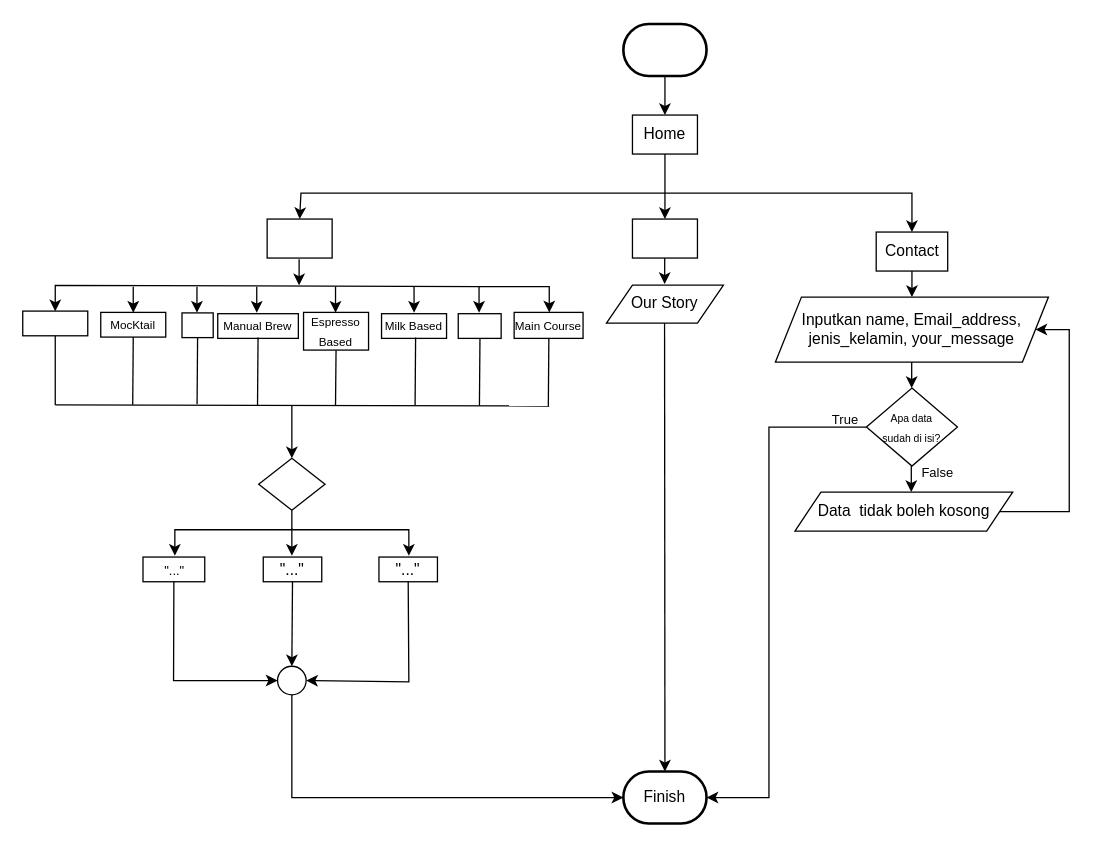
Some shapes in this 1102 by 846 pixel diagram are drawn without their labels. Here are the shapes that lost their labels. From the top down, the centre of each, then its label:
At point 664,49: "Start".
At point 299,238: "Menu".
At point 664,238: "About".
At point 54,323: "Signature".
At point 197,325: "Tea".
At point 479,325: "Snack".
At point 291,483: "Pilih item".
